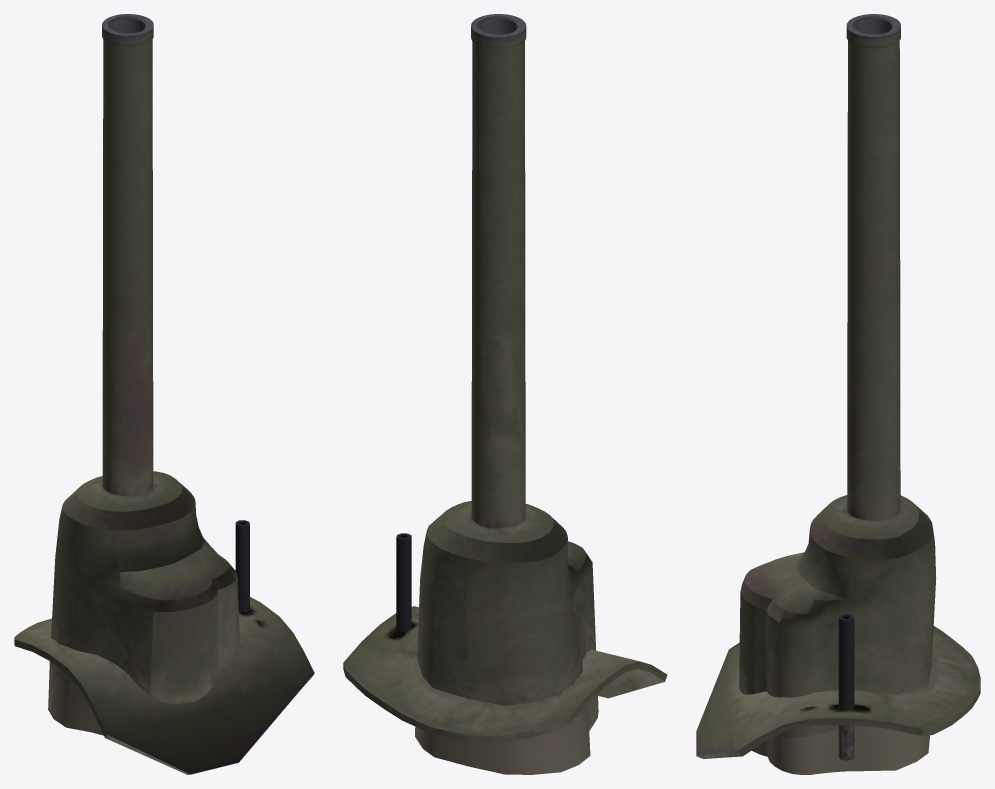
The model's file is Gun_07.glb.
3 renders of one model, left to right at view 1: azimuth 30°, elevation 25°; view 2: azimuth 150°, elevation 25°; view 3: azimuth 270°, elevation 25°, orthographic. The views are drawn at different scales.
Parts seen in each view (by area): view 1: set_0_group_0; view 2: set_0_group_0; view 3: set_0_group_0.
Boxes of the visible parts, <box> form: set_0_group_0: <box>14,14,314,774</box>; set_0_group_0: <box>343,14,667,774</box>; set_0_group_0: <box>696,14,980,774</box>.
Size of the model in its own units: 0.518 by 1.6 by 0.5738.
1 material, 1 textured.
